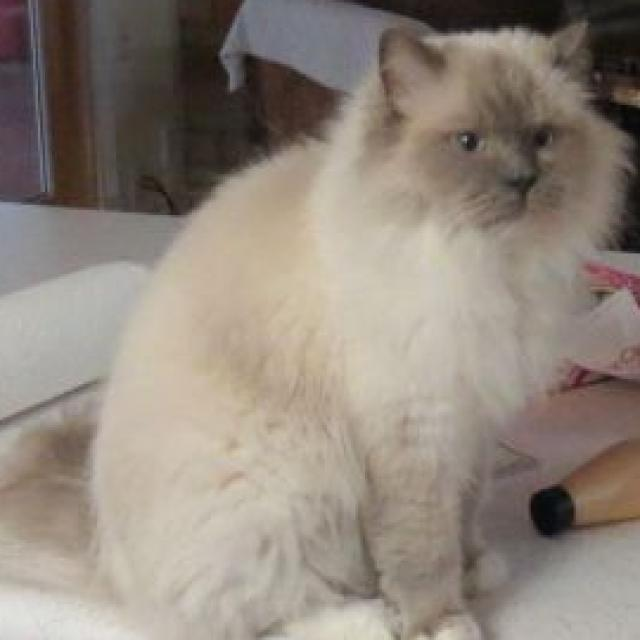Birman: (83, 15, 635, 640)
